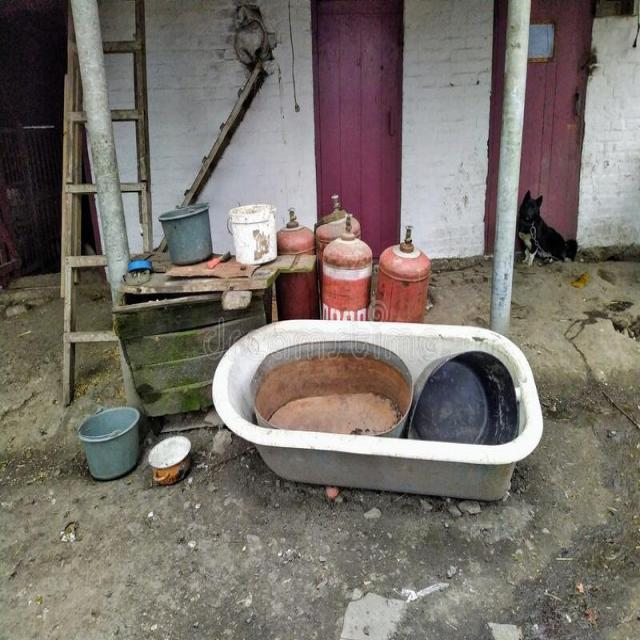fire_extinguisher: (366, 223, 434, 400), (318, 213, 377, 404), (270, 198, 328, 392), (309, 190, 365, 387)
